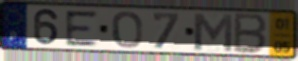6: (32, 8, 60, 47)
7: (151, 10, 182, 51)
B: (232, 11, 269, 56)
E: (63, 10, 100, 48)
M: (191, 12, 234, 54)
O: (110, 10, 144, 49)
